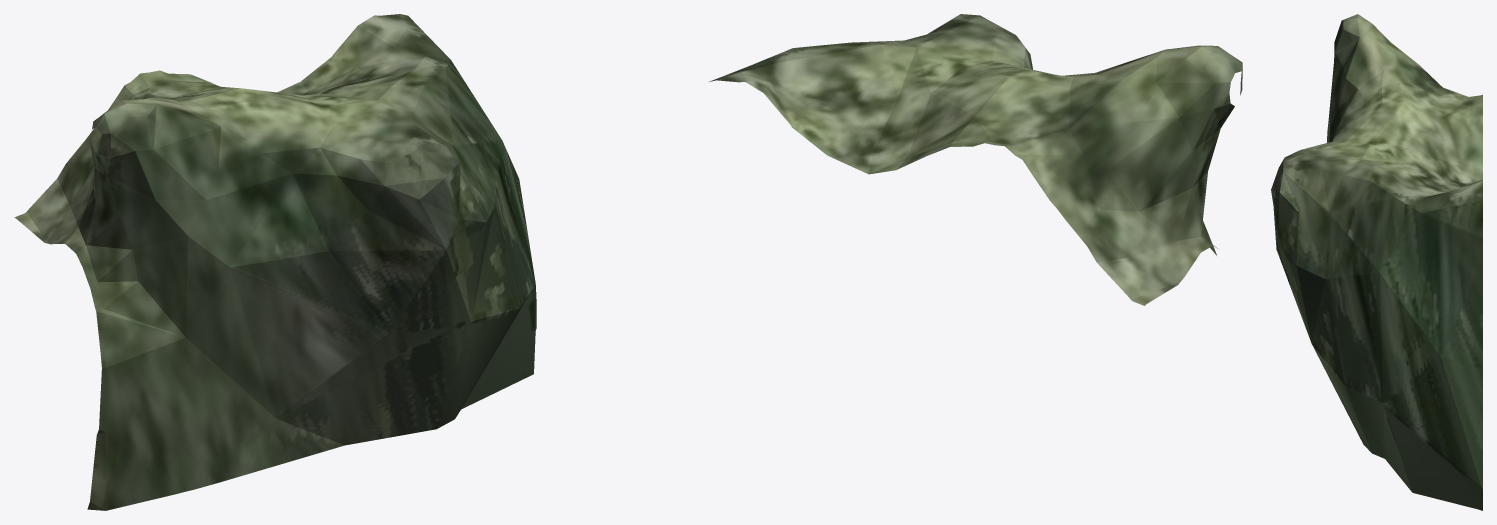
3 renders of one model, left to right at view 1: azimuth 30°, elevation 25°; view 2: azimuth 150°, elevation 25°; view 3: azimuth 270°, elevation 25°, orthographic. The views are drawn at different scales.
Bounding box in the file's own units: 2.36 × 1.75 × 1.09.
Materials: 2 (2 with a texture image).
